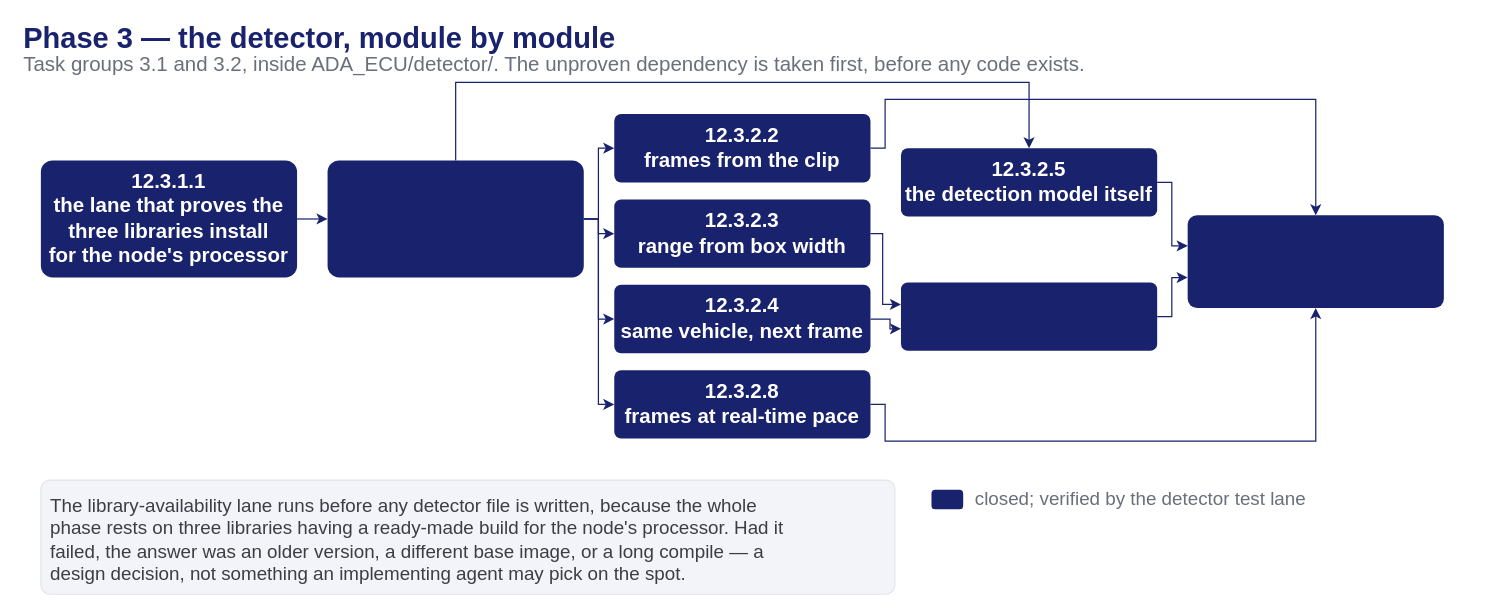
Image size: 1505x616. Some labels were removed from this diagram. The shapes that lost their labels are listed below. From the top down, each one's box as (x1, y1, x2, y2) in pixels, then its label:
(327, 160, 583, 277): 12.3.2.1 the detector's only settings reader, and its pinned library versions
(1187, 215, 1443, 307): 12.3.2.7 the process the node starts and reads
(900, 282, 1157, 350): 12.3.2.6 one line per detection
